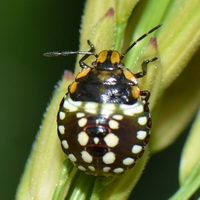insect: (44, 25, 161, 175)
